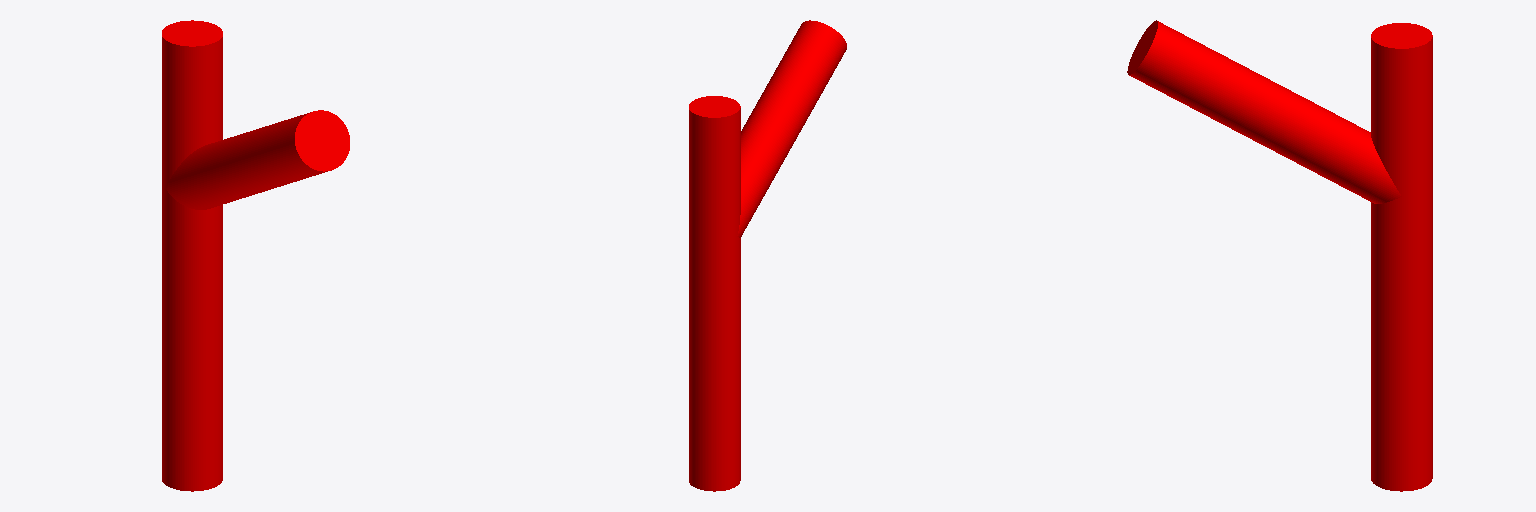
robot.urdf — tree.urdf:
<?xml version="1.0" ?>
<robot name="tree.urdf">
  <link name="baseLink">
    <inertial>
      <origin rpy="0 0 0" xyz="0 0 0"/>
       <mass value=".1"/>
       <inertia ixx="1" ixy="0" ixz="0" iyy="1" iyz="0" izz="1"/>
    </inertial>
    <visual>
      <origin rpy="0 0 0" xyz="0 0 0"/>
      <geometry>
        <mesh filename="3.stl" scale="1 1 1" />
      </geometry>
      <material name="red">
        <color rgba="1 0 0 1"/>
      </material>
    </visual>
    <collision>
      <origin rpy="0 0 0" xyz="0 0 0"/>
      <geometry>
        <mesh filename="3_convex.obj" scale="1 1 1" />
      </geometry>
    </collision>
  </link>
</robot>

--- Render facts (derived) ---
3 views of the same robot in one strip: view 1: azimuth 30°, elevation 25°; view 2: azimuth 150°, elevation 25°; view 3: azimuth 270°, elevation 25° (orthographic).
Robot: tree.urdf — 1 links, 0 joints (none); root link baseLink; default pose: all joints at 0.
Links seen in each view (by area): view 1: baseLink; view 2: baseLink; view 3: baseLink.
Boxes of the visible links, box(x1,y1,x2,y2) form: baseLink: box(162, 20, 349, 491); baseLink: box(689, 20, 846, 491); baseLink: box(1127, 20, 1432, 491).
Bounding box of the posed robot: 0.0315 × 0.1562 × 0.2568 m (x, y, z).
Meshes: 1 distinct files referenced, 1 mesh visuals loaded (1 binary STL).